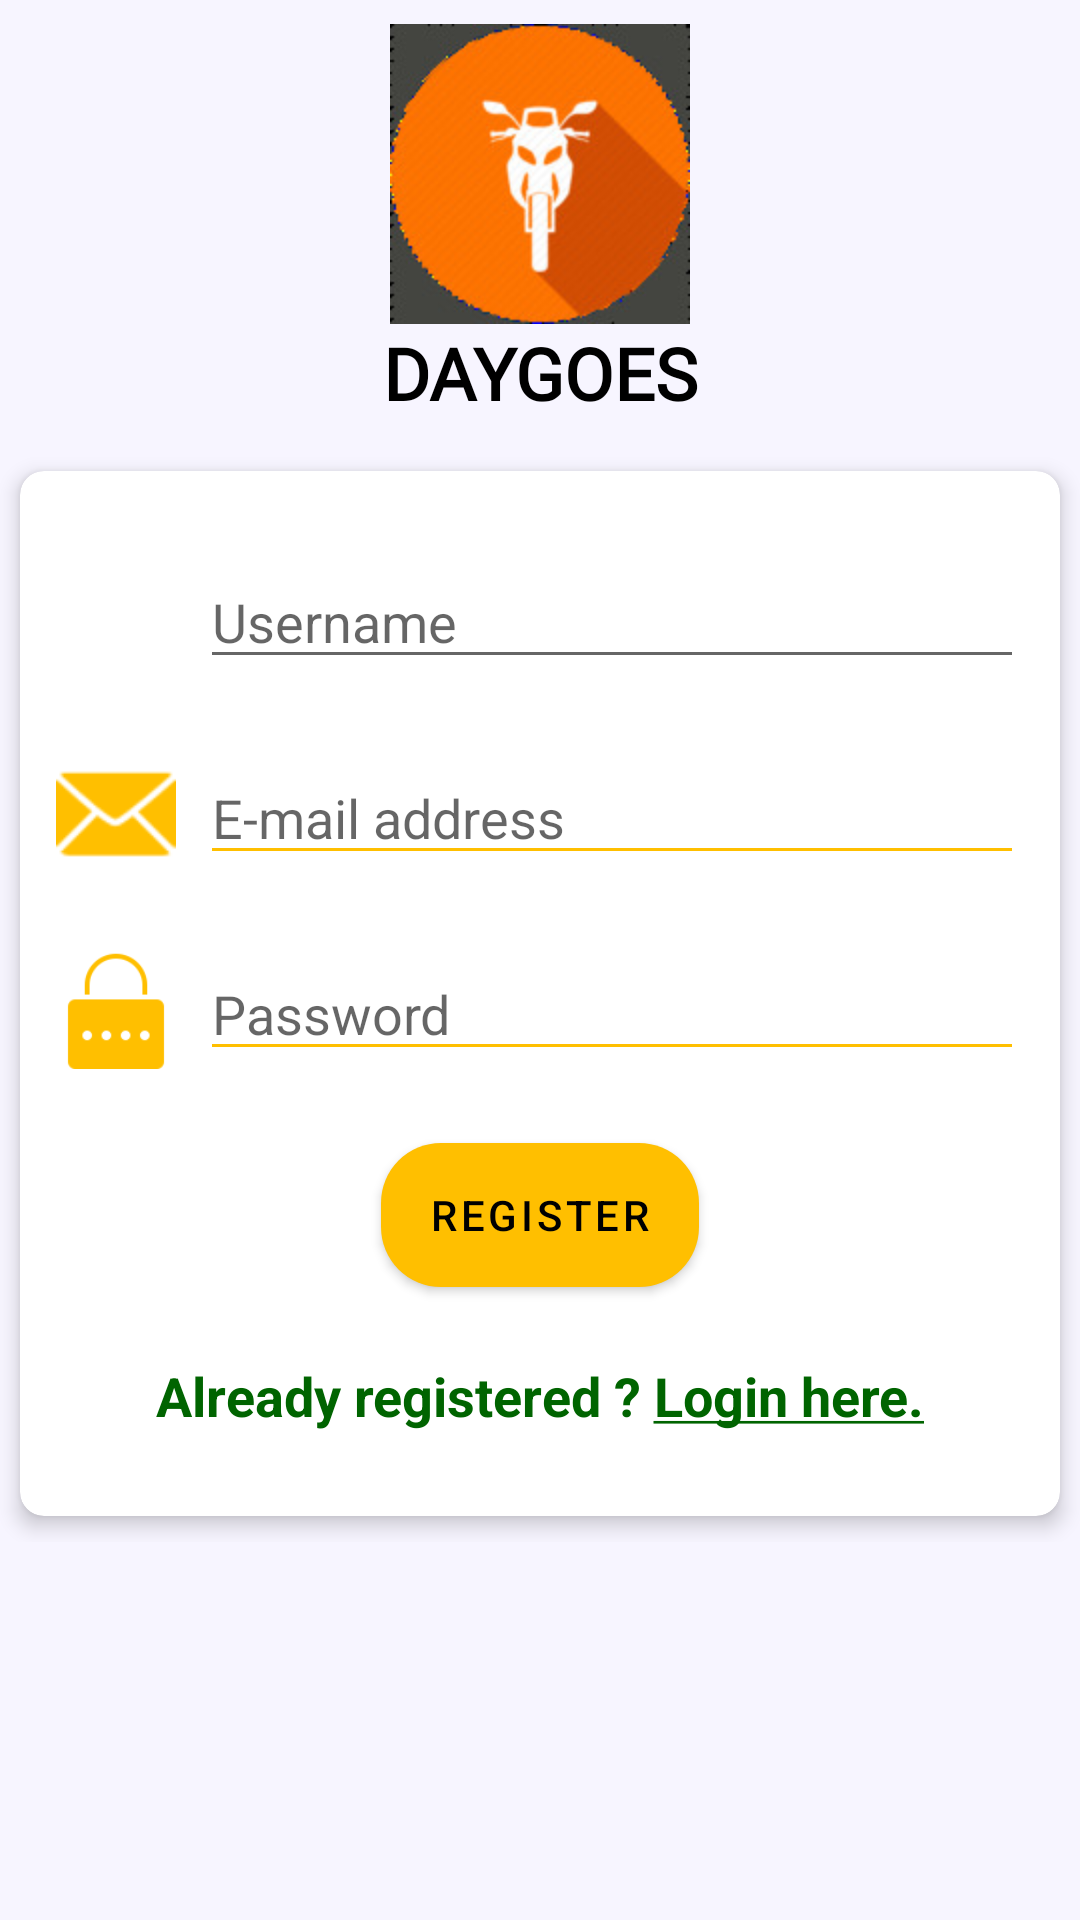

Locate icon controls on the screen. Image size 1080x1920, boxes as (left=x1, top=y1, right=x2, bottom=y2).
email icon: (left=56, top=771, right=176, bottom=857)
